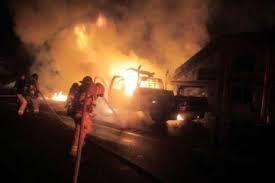fire: (103, 55, 161, 98), (44, 85, 70, 102)
